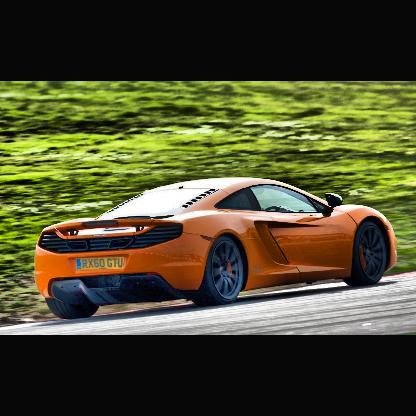McLaren MP4-12C Coupe 2012: (36, 177, 398, 319)
